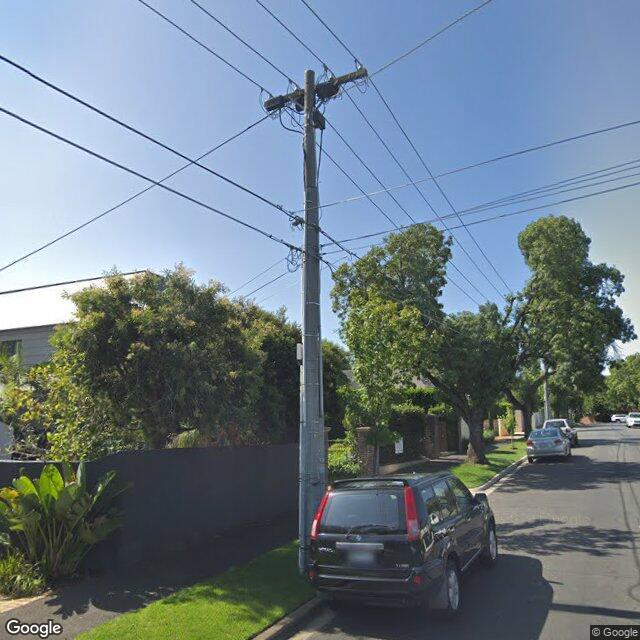crossarm: (264, 69, 368, 111)
timber-pole: (299, 70, 326, 576)
